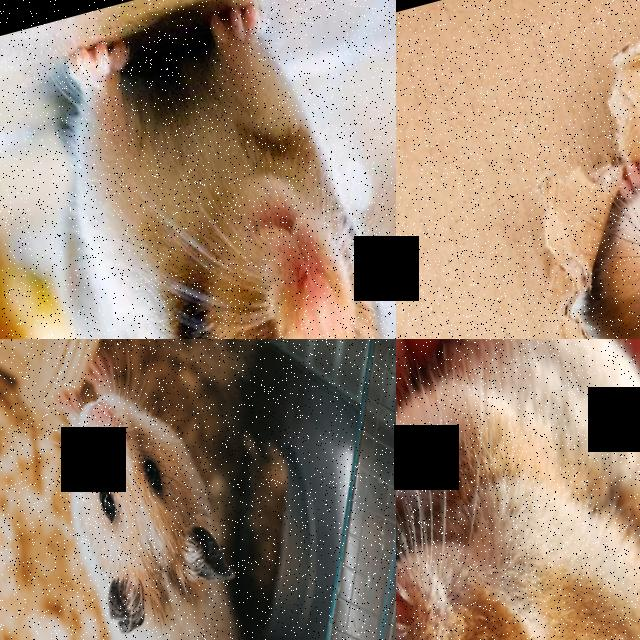hamster: (1, 0, 396, 339), (396, 339, 640, 640), (32, 349, 267, 640), (545, 106, 640, 339)
